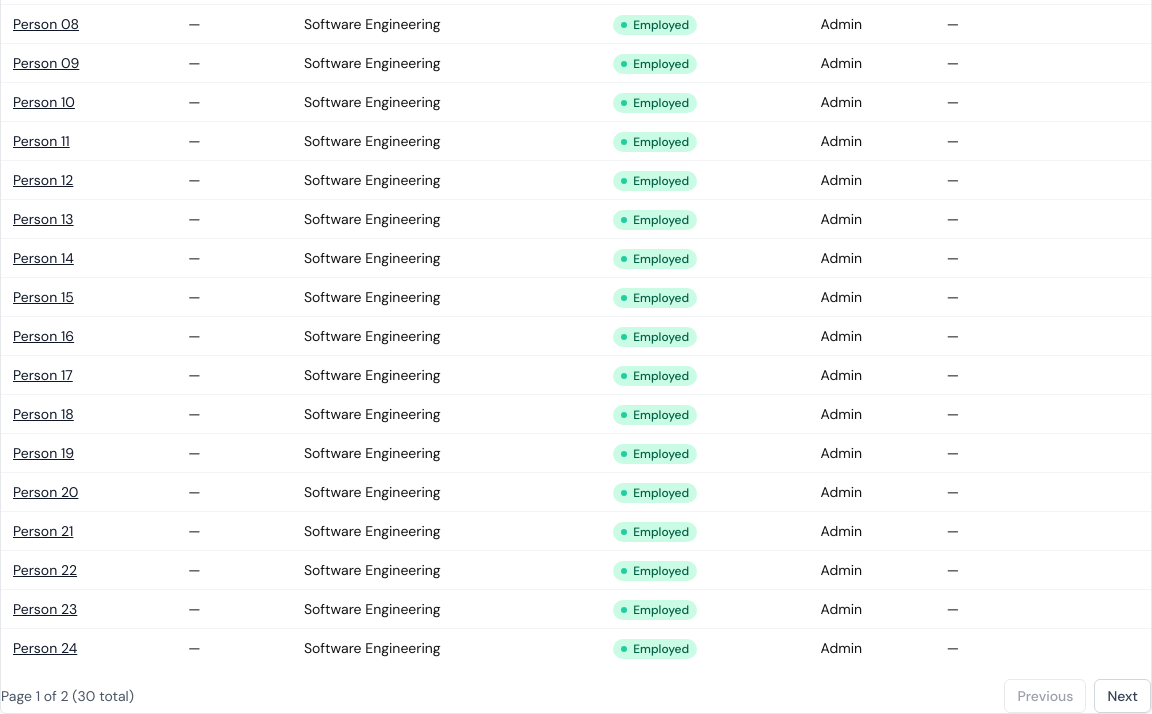
Test: PeoplePage › resets to page 1 when a filter is applied
(page scrolled)
Click the button "Next" at (1123, 696), box [1094,679,1151,713]
(page scrolled)
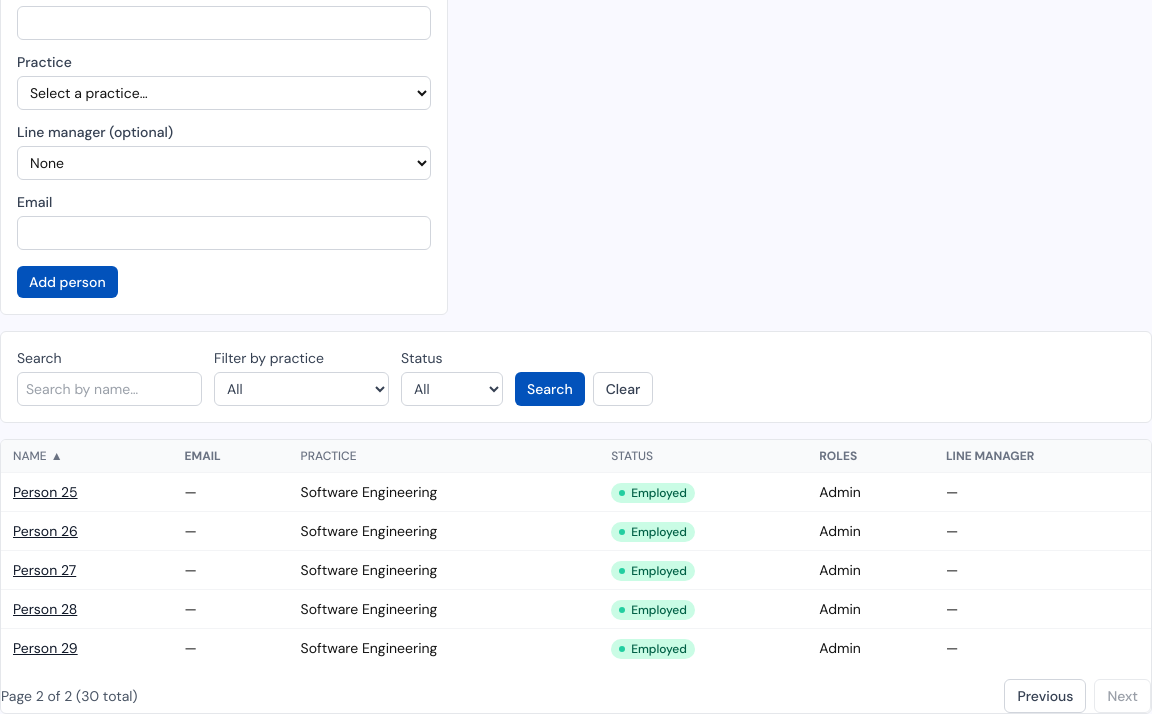
Now the link "Person 25" is shown, box [13,483,78,501]
Type "Person 0" into the search field labelled "Search" at (110, 389), box [17,372,202,406]
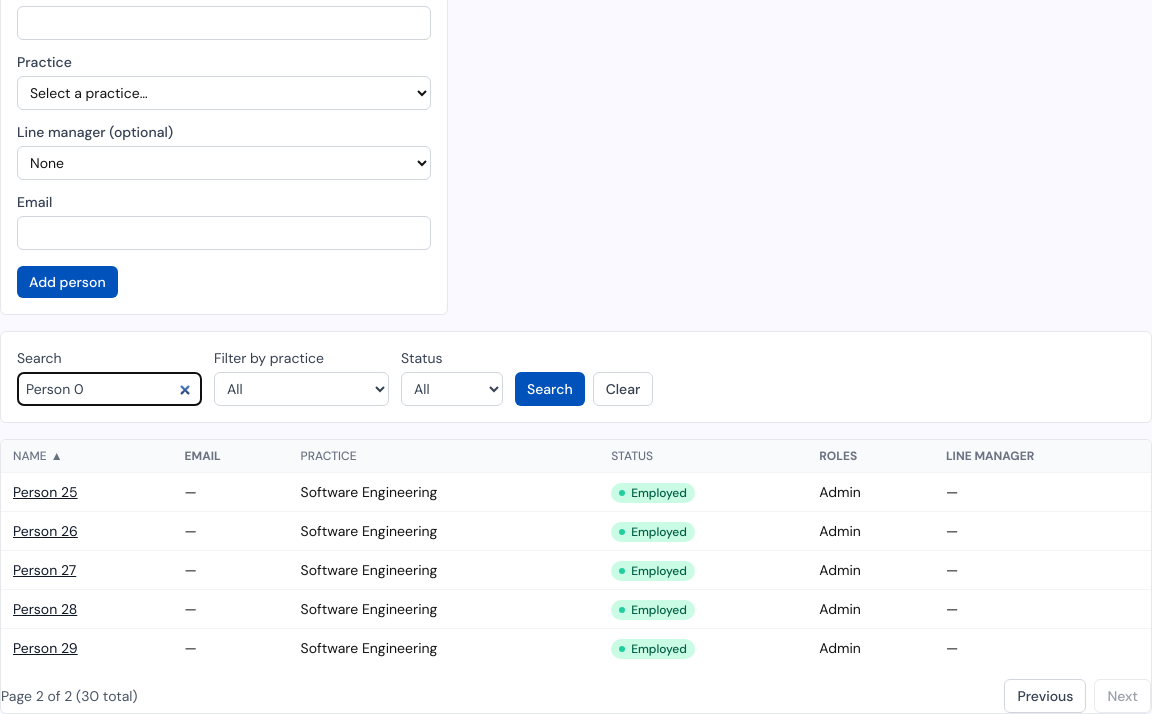
Click the button "Search" at (550, 389), box [515,372,585,406]
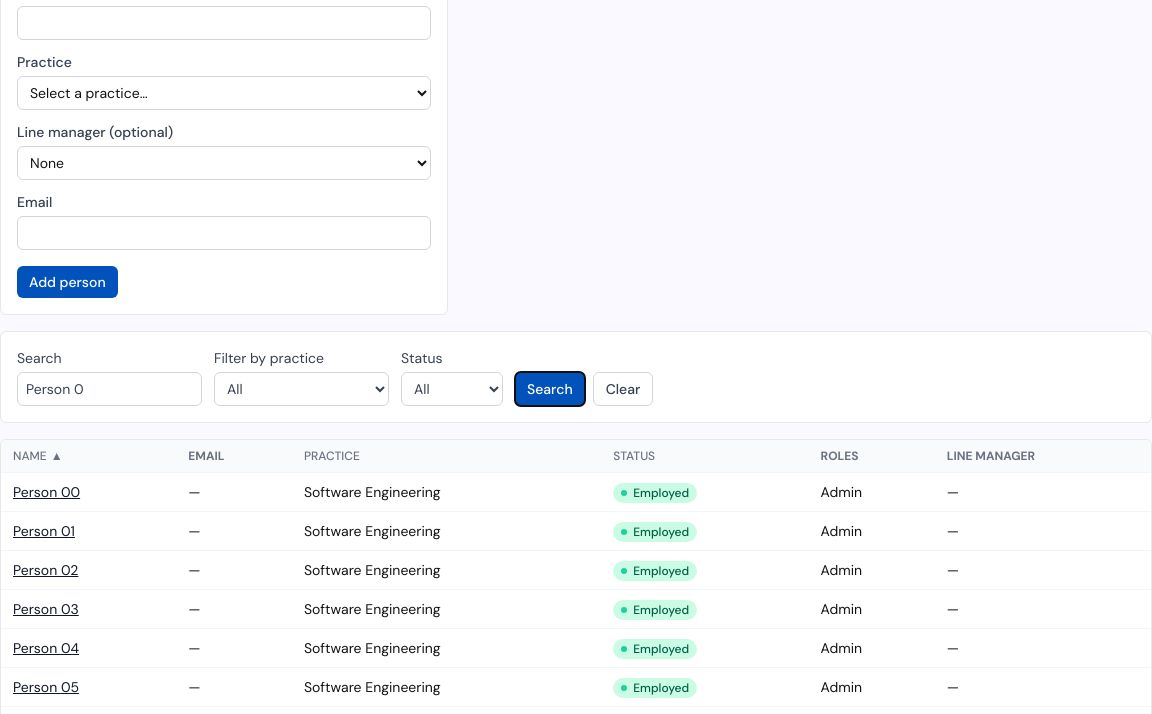
Now the link "Person 00" is shown, box [13,483,80,501]
Now the text "Page 2 of 2 (30 total)" is gone
